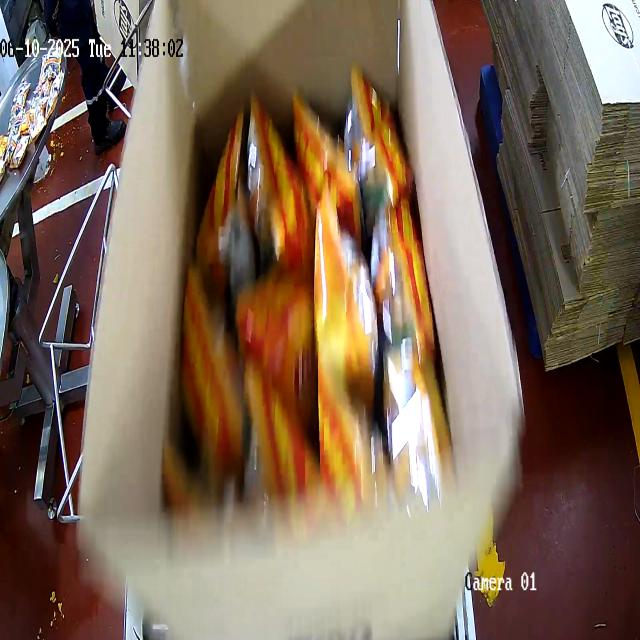FRENCH_CHEESE: (190, 73, 417, 544)
